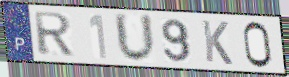0: (241, 20, 274, 69)
1: (88, 14, 109, 60)
9: (160, 17, 193, 64)
K: (200, 18, 235, 67)
R: (31, 11, 75, 57)
U: (112, 11, 159, 65)
